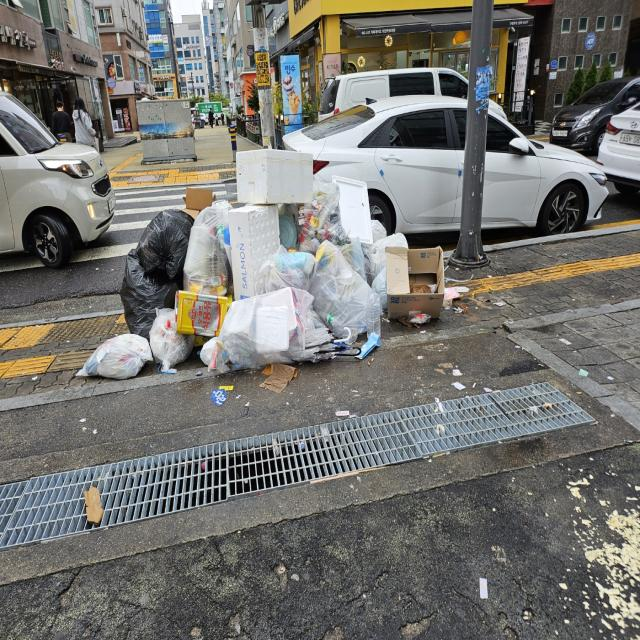General Waste: (205, 290, 336, 387), (117, 205, 198, 344), (308, 239, 385, 350), (231, 146, 288, 294), (381, 239, 451, 325), (77, 324, 158, 391), (299, 171, 346, 256), (145, 305, 196, 378)
